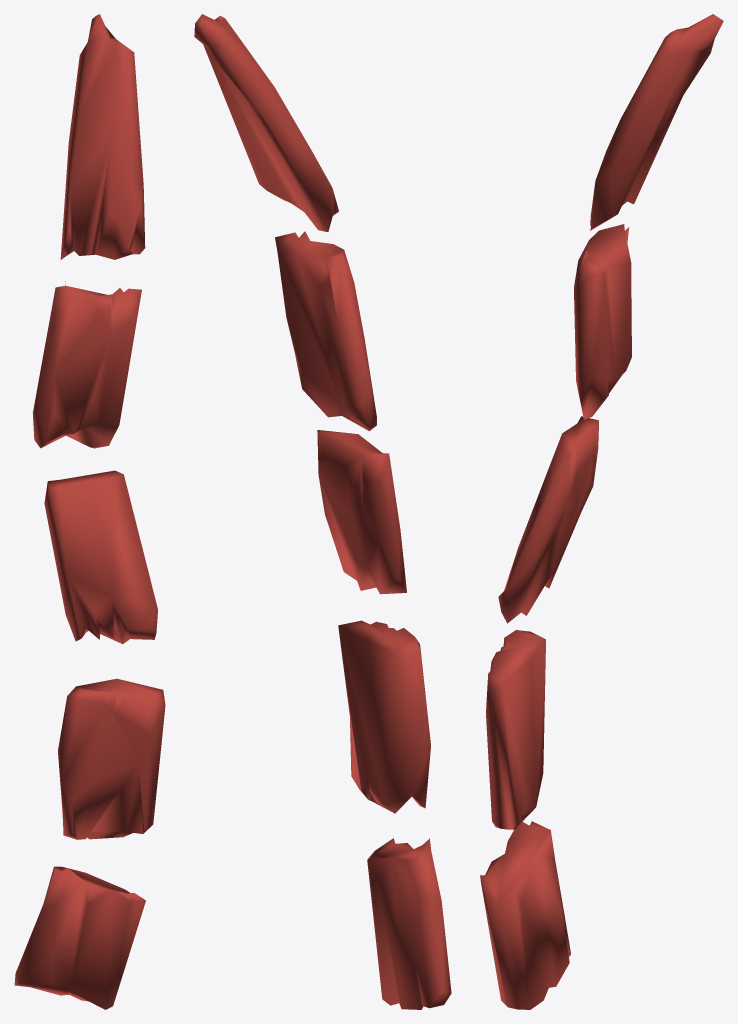
File: musculos-dorsal-parts-of-lateral-intertransversarii-lumborum-muscles-r.glb
3 views of the same model, side by side, from view 1: azimuth 30°, elevation 25°; view 2: azimuth 150°, elevation 25°; view 3: azimuth 270°, elevation 25° (orthographic). The views are drawn at different scales.
Visible parts, largest first — view 1: Dorsal parts of lateral intertransversarii lumborum muscles.; view 2: Dorsal parts of lateral intertransversarii lumborum muscles.; view 3: Dorsal parts of lateral intertransversarii lumborum muscles..
Part boxes in pixels (x1,y1,x2,y2): Dorsal parts of lateral intertransversarii lumborum muscles.: (14,14,165,1009); Dorsal parts of lateral intertransversarii lumborum muscles.: (194,14,451,1009); Dorsal parts of lateral intertransversarii lumborum muscles.: (480,14,723,1009).
Size of the model in its own units: 0.0286 by 0.1502 by 0.0319.
